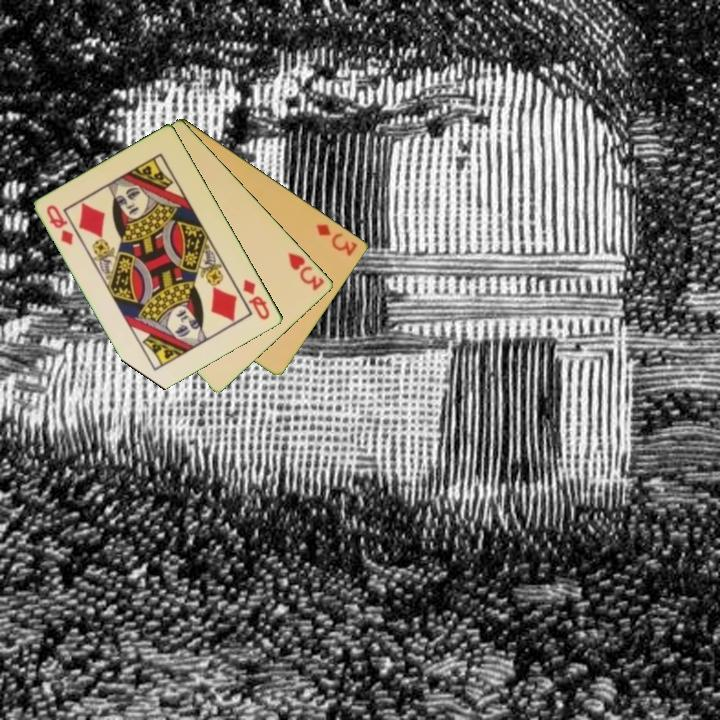3d: (313, 220, 361, 259)
3h: (284, 249, 328, 294)
Qd: (43, 201, 77, 248), (240, 276, 273, 323)
